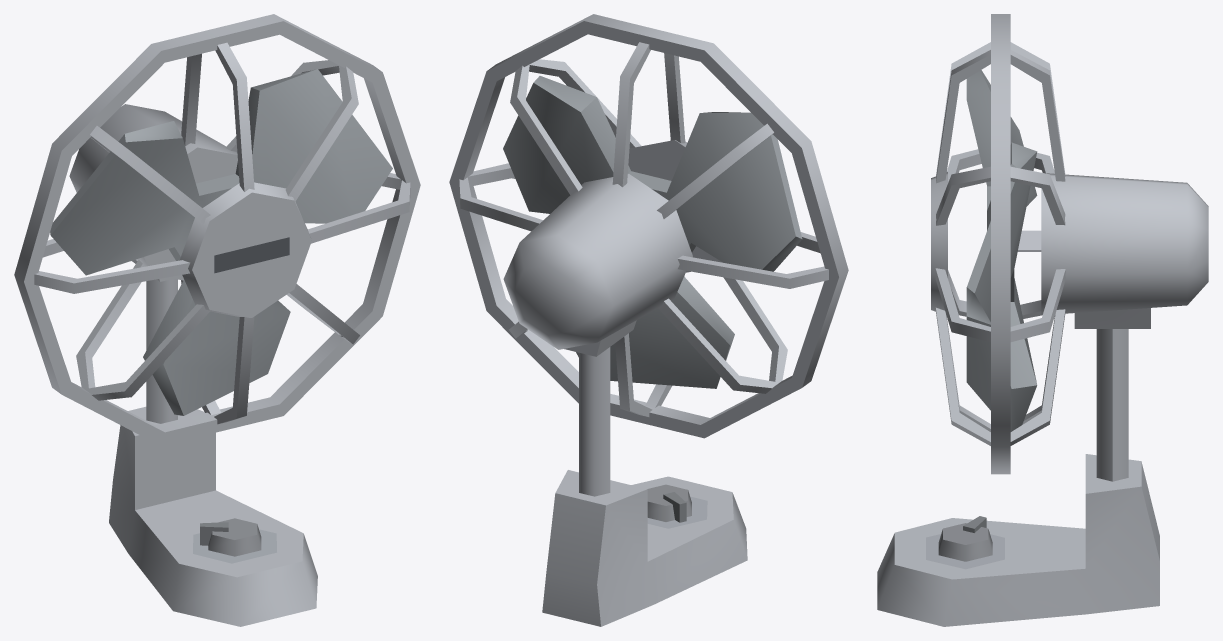
The model's file is SM_Prop_Fan_Desk_01.obj.
The picture shows the model from 3 angles, left to right: view 1: azimuth 30°, elevation 25°; view 2: azimuth 150°, elevation 25°; view 3: azimuth 270°, elevation 25°; orthographic projection. The views are drawn at different scales.
Visible parts, largest first — view 1: SM_Prop_Fan_Desk_01_Mat_SwatchOverlay_PolygonOffice_01_Inst; view 2: SM_Prop_Fan_Desk_01_Mat_SwatchOverlay_PolygonOffice_01_Inst; view 3: SM_Prop_Fan_Desk_01_Mat_SwatchOverlay_PolygonOffice_01_Inst.
Part boxes in pixels (left/top/right/bottom): SM_Prop_Fan_Desk_01_Mat_SwatchOverlay_PolygonOffice_01_Inst: left=14, top=14, right=420, bottom=626; SM_Prop_Fan_Desk_01_Mat_SwatchOverlay_PolygonOffice_01_Inst: left=449, top=14, right=848, bottom=626; SM_Prop_Fan_Desk_01_Mat_SwatchOverlay_PolygonOffice_01_Inst: left=877, top=14, right=1208, bottom=626.
Size of the model in its own units: 0.6711 by 0.8734 by 0.48.
Materials: 1 (1 with a texture image).
